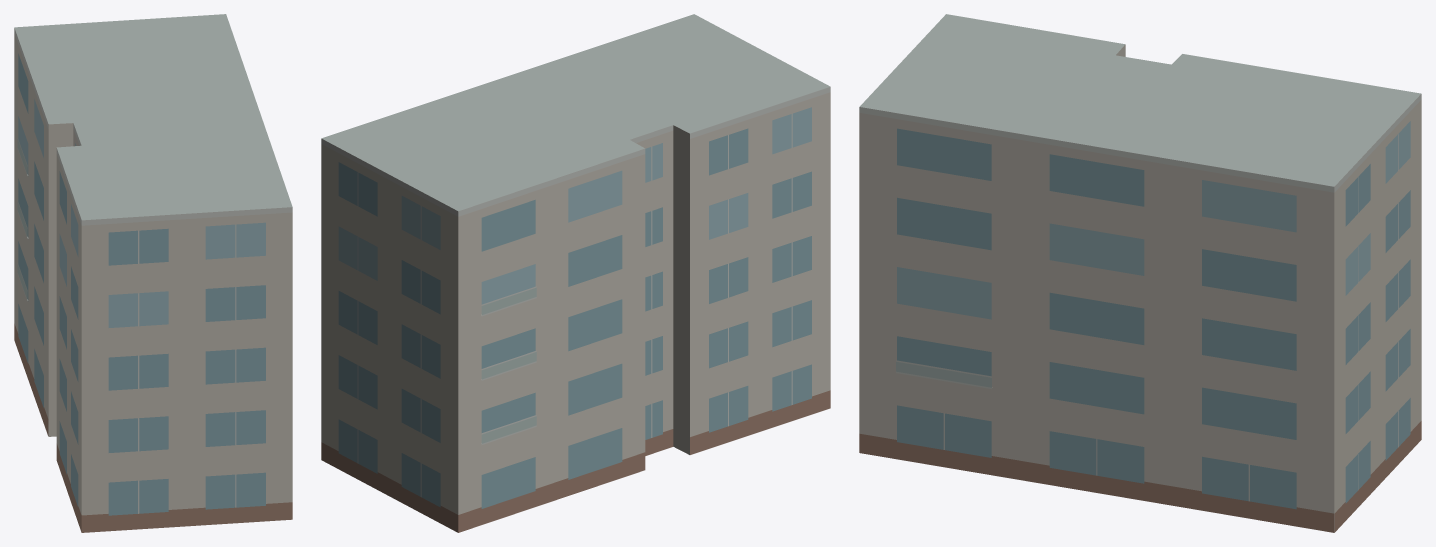
File: survey-upis-32948266.glb
The picture shows the model from 3 angles, left to right: view 1: azimuth 30°, elevation 25°; view 2: azimuth 150°, elevation 25°; view 3: azimuth 270°, elevation 25°; orthographic projection. The views are drawn at different scales.
Parts seen in each view (by area): view 1: survey-upis-32948266.tmp; view 2: survey-upis-32948266.tmp; view 3: survey-upis-32948266.tmp.
Boxes of the visible parts, bbox=[...] form: survey-upis-32948266.tmp: bbox=[14, 14, 292, 532]; survey-upis-32948266.tmp: bbox=[321, 14, 830, 532]; survey-upis-32948266.tmp: bbox=[859, 14, 1421, 532].
Size of the model in its own units: 15.32 by 14.3 by 21.06.
